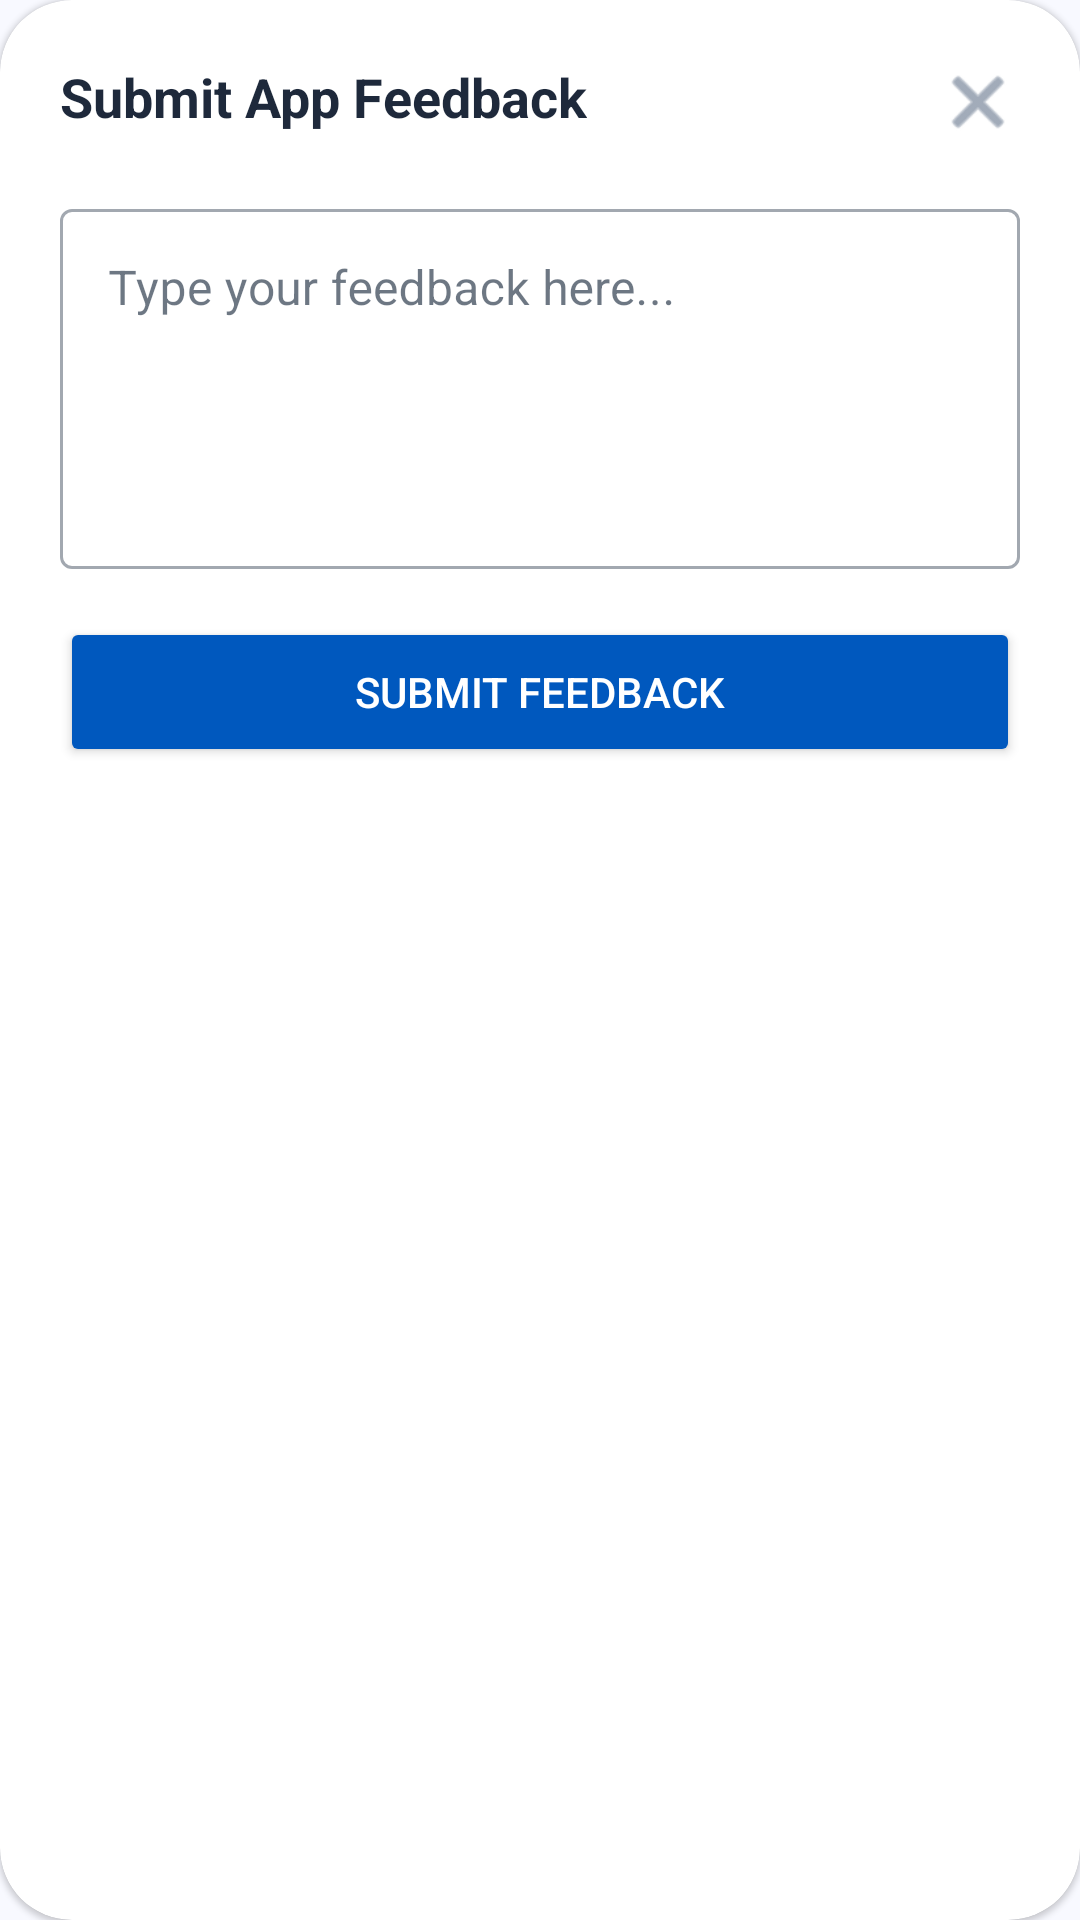

Named icons in this screenshot (1080 x 1920) and their bounding boxes, (x1, y1, x2, y2):
close clear cancel: (952, 76, 1004, 128)
